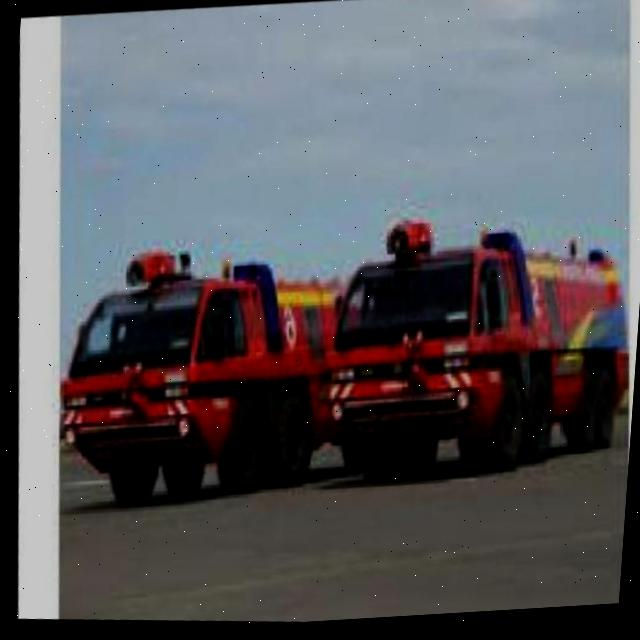emergency: (317, 212, 634, 496), (54, 243, 386, 511)
